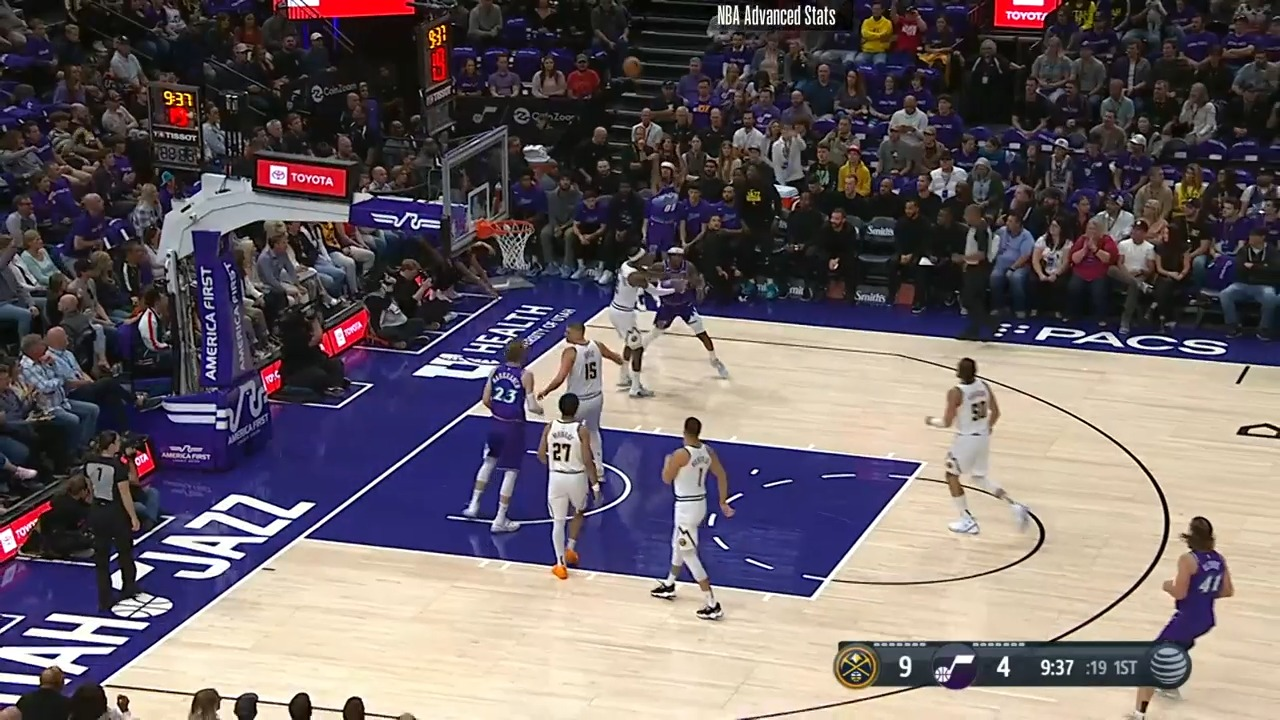net: (473, 213, 534, 269)
player: (925, 355, 1033, 544), (1144, 518, 1235, 715), (657, 418, 738, 622), (464, 337, 545, 535), (639, 243, 731, 382), (540, 393, 607, 582), (533, 321, 627, 426), (602, 251, 660, 399)
referee: (80, 430, 151, 613), (956, 204, 999, 344)
